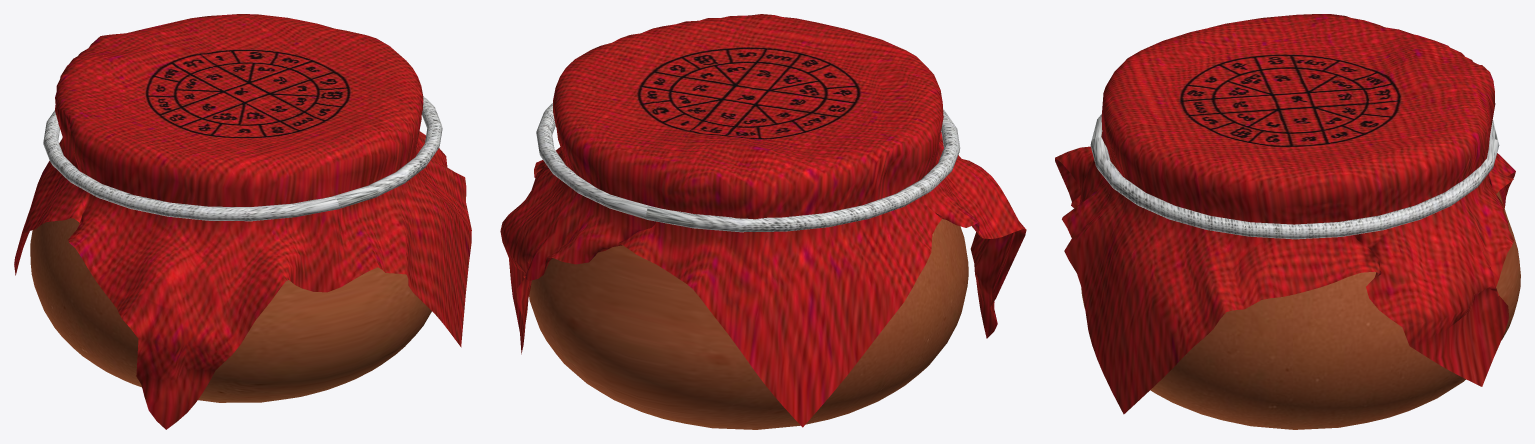
Rendered from ghostjar.fbx.
3 views of the same model, side by side, from view 1: azimuth 30°, elevation 25°; view 2: azimuth 150°, elevation 25°; view 3: azimuth 270°, elevation 25° (orthographic). The views are drawn at different scales.
Parts seen in each view (by area): view 1: jar; view 2: jar; view 3: jar.
Part boxes in pixels (<box>): jar: <box>14,14,471,429</box>; jar: <box>500,14,1026,429</box>; jar: <box>1055,14,1520,429</box>.
Size of the model in its own units: 0.619 by 0.45 by 0.6121.
